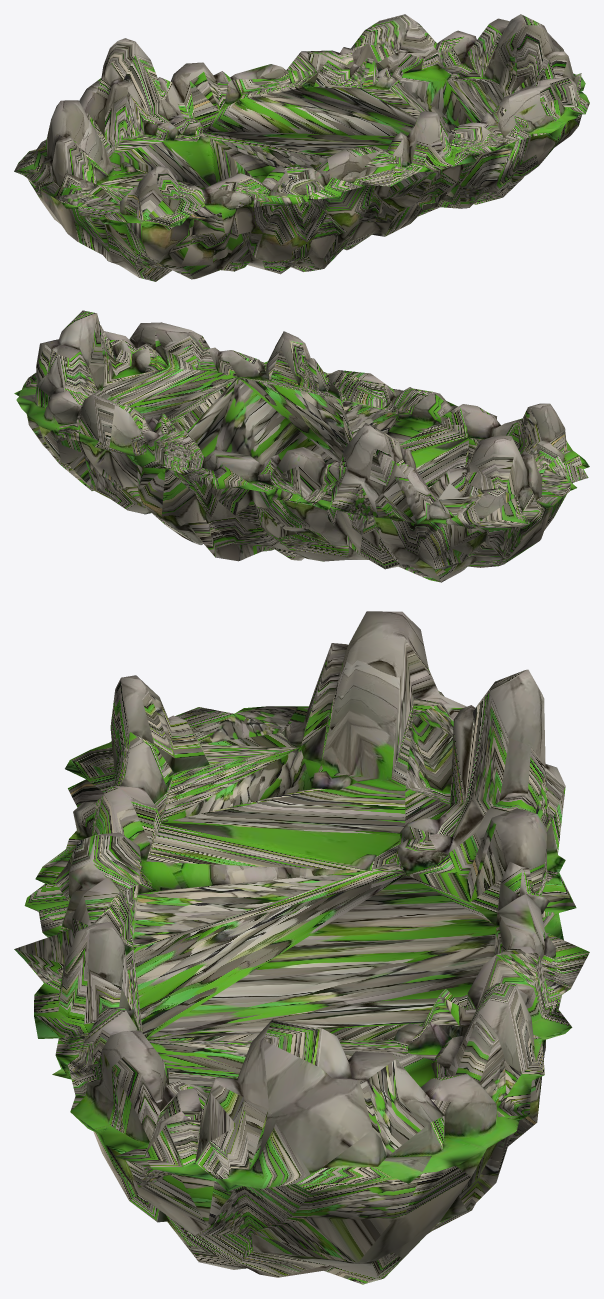
The model's file is Rocky_Island_Plateau.glb.
3 renders of one model, top to bottom at view 1: azimuth 30°, elevation 25°; view 2: azimuth 150°, elevation 25°; view 3: azimuth 270°, elevation 25°, orthographic. The views are drawn at different scales.
Visible parts, largest first — view 1: Rocky_Island_Plateau; view 2: Rocky_Island_Plateau; view 3: Rocky_Island_Plateau.
Boxes of the visible parts, left/top/right/bottom form: Rocky_Island_Plateau: left=14, top=14, right=589, bottom=281; Rocky_Island_Plateau: left=14, top=310, right=589, bottom=582; Rocky_Island_Plateau: left=14, top=611, right=589, bottom=1284.
Size of the model in its own units: 1.91 by 0.6656 by 0.9585.
Materials: 1 (1 with a texture image).
